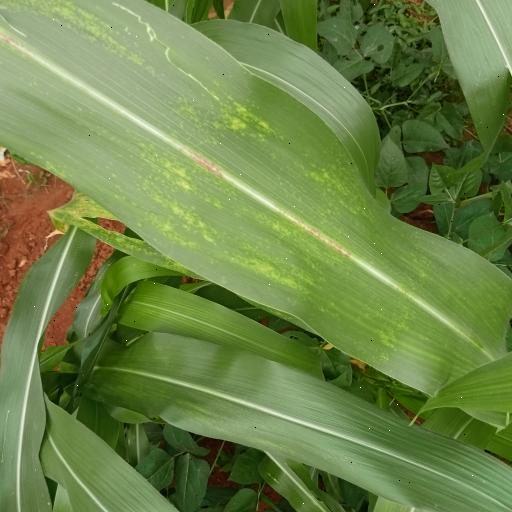Corn_Brown_Spots: (0, 6, 512, 404)
Corn_Healthy: (86, 322, 512, 512)
